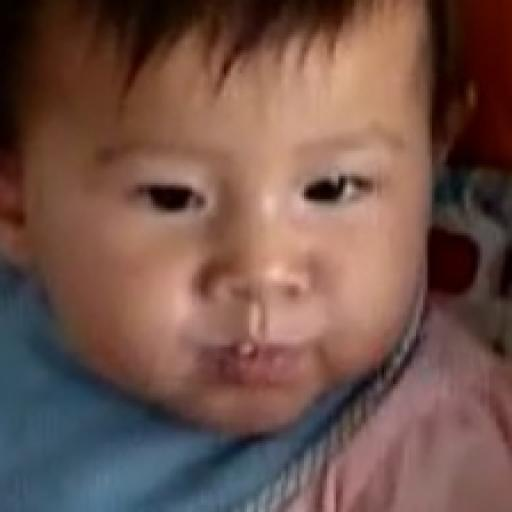Autism: (2, 0, 512, 490)
